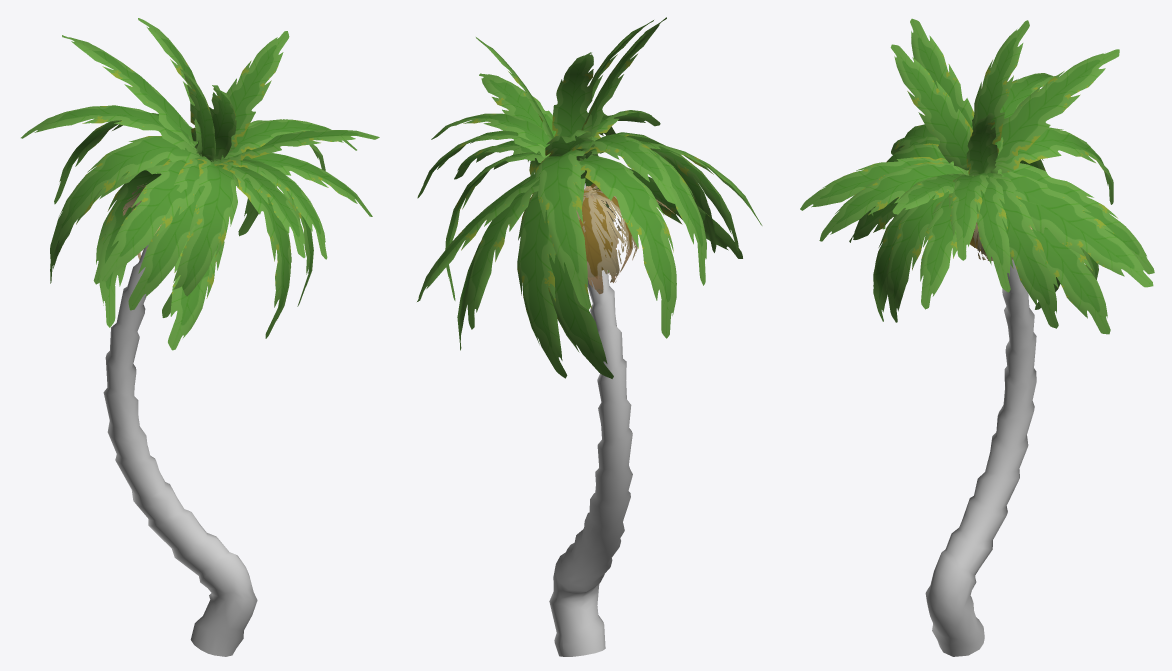
Rendered from SM_PalmTree01.fbx.
3 views of the same model, side by side, from view 1: azimuth 30°, elevation 25°; view 2: azimuth 150°, elevation 25°; view 3: azimuth 270°, elevation 25° (orthographic). The views are drawn at different scales.
Visible parts, largest first — view 1: PalmGen.001; view 2: PalmGen.001; view 3: PalmGen.001.
Boxes of the visible parts, <box> form: PalmGen.001: <box>21,18,379,656</box>; PalmGen.001: <box>417,17,762,656</box>; PalmGen.001: <box>800,18,1154,656</box>.
Bounding box in the file's own units: 4.82 × 5.21 × 9.7.
